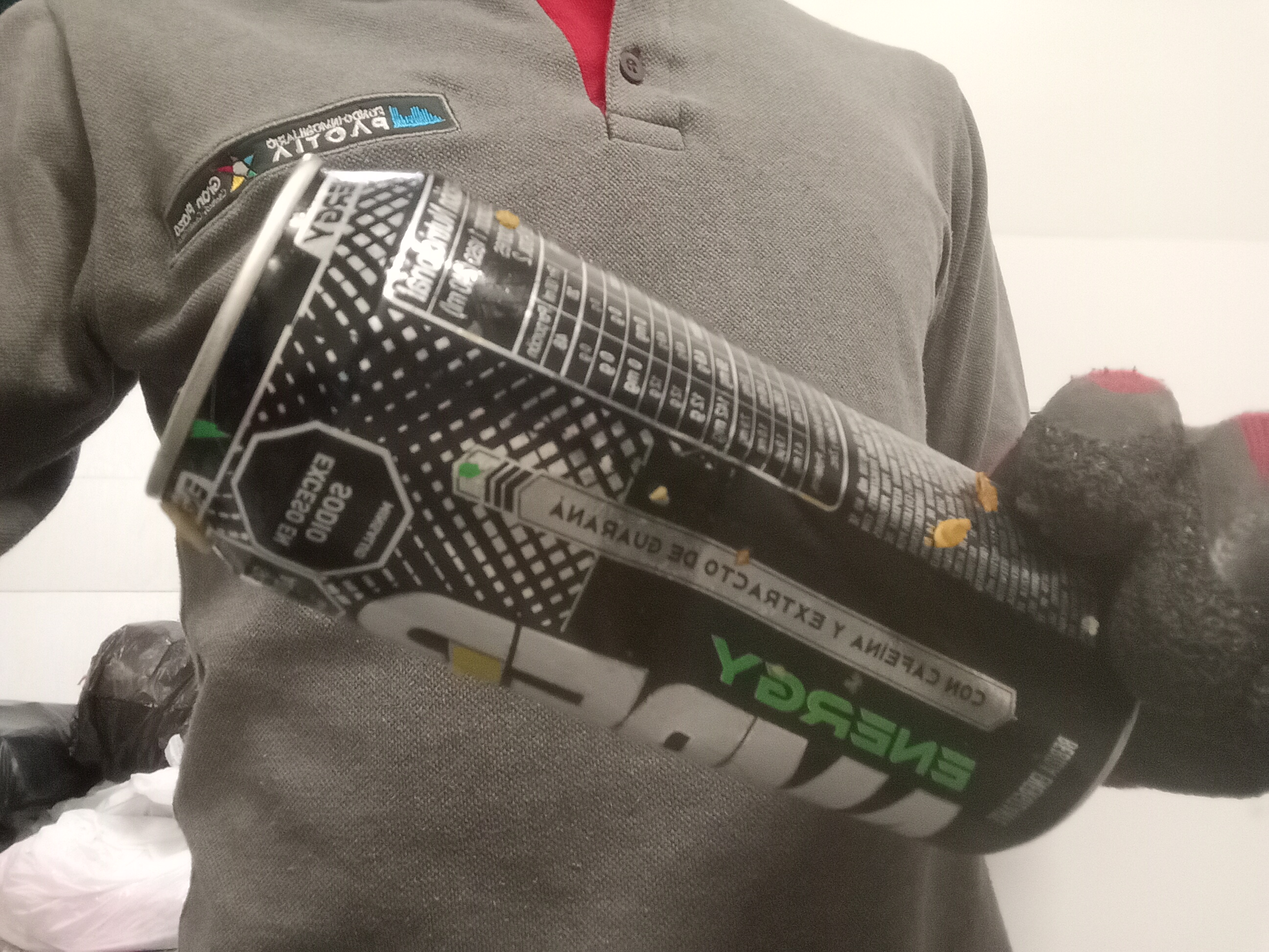Metal: (145, 151, 1142, 856)
